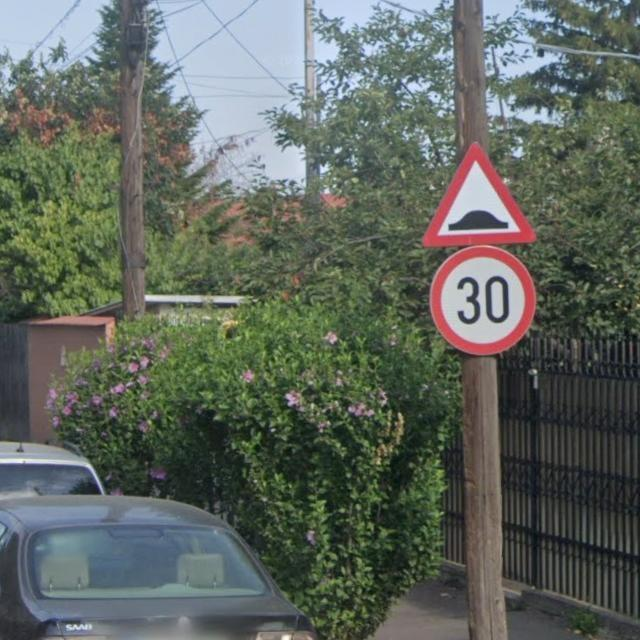forb_speed_over_30: (432, 245, 540, 355)
